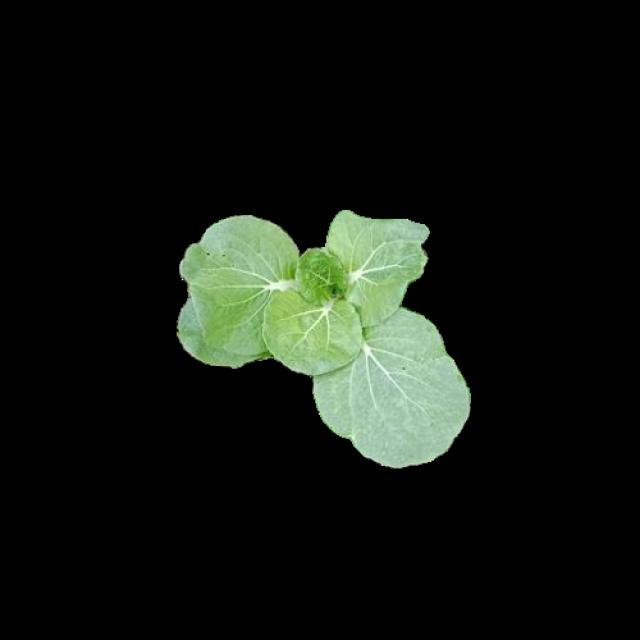healthy: (173, 206, 468, 462)
not-mature: (175, 208, 471, 464)
